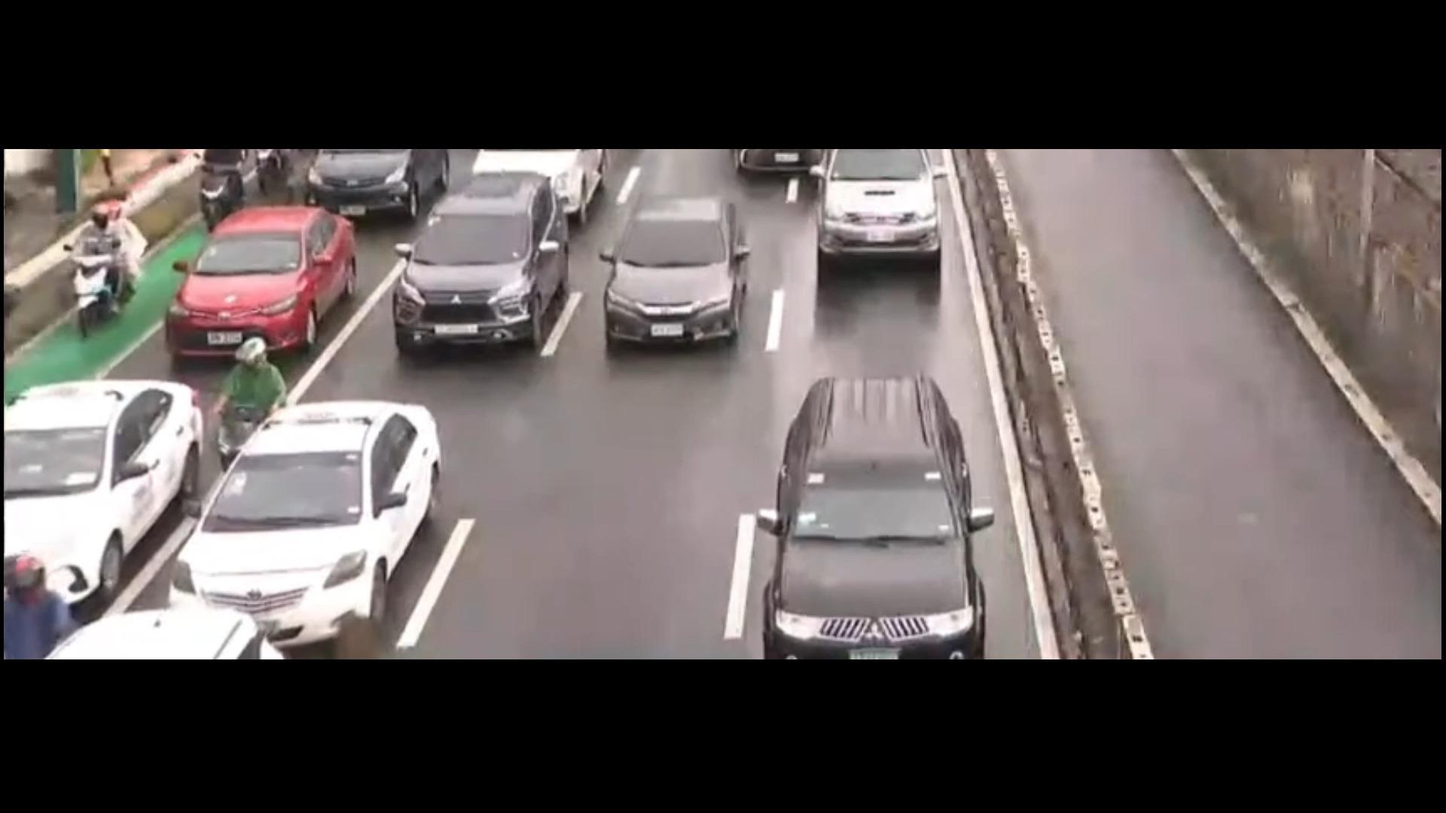Motorcycle: (68, 184, 151, 329), (207, 324, 286, 459), (0, 544, 66, 647), (190, 139, 247, 241)
SUV: (738, 376, 994, 662), (388, 175, 570, 354), (811, 149, 958, 282)
Sedan: (171, 397, 437, 629), (0, 373, 211, 602), (160, 207, 356, 361), (597, 196, 759, 352)
